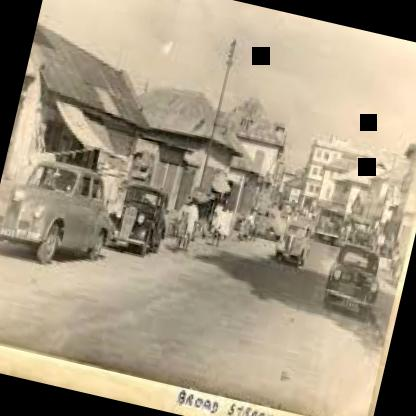car: (0, 123, 130, 289), (90, 168, 180, 278), (313, 232, 396, 330), (272, 207, 321, 279)
